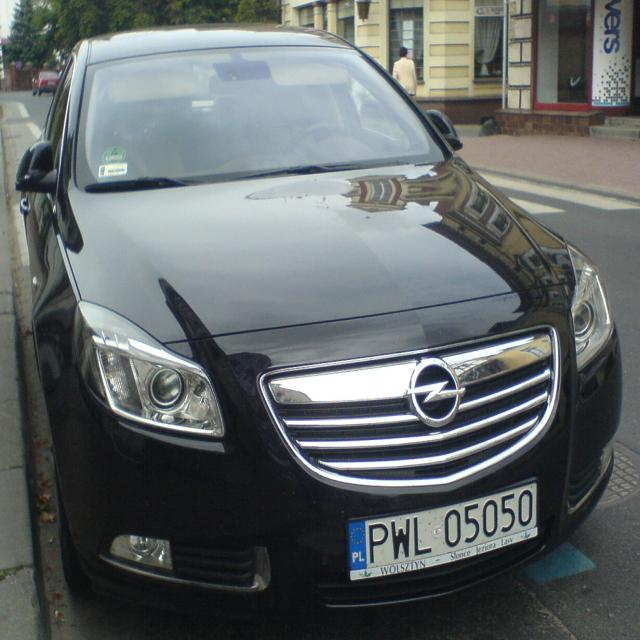pl_license_plate: (348, 482, 536, 568)
